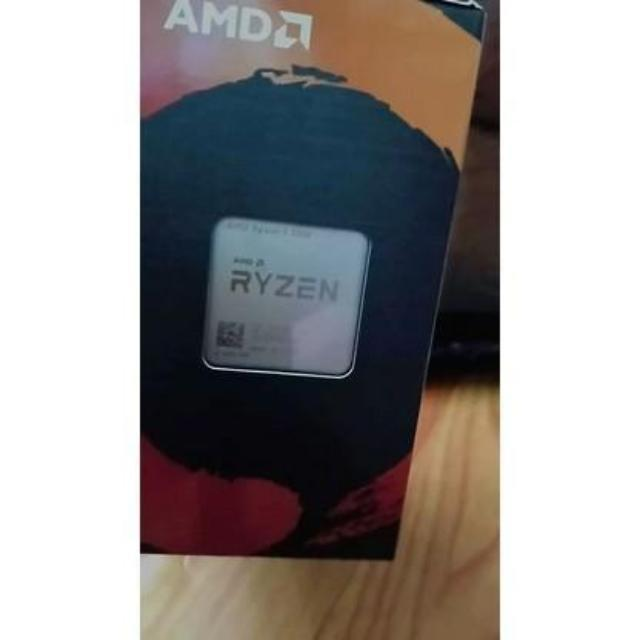CPU: (196, 203, 370, 388)
